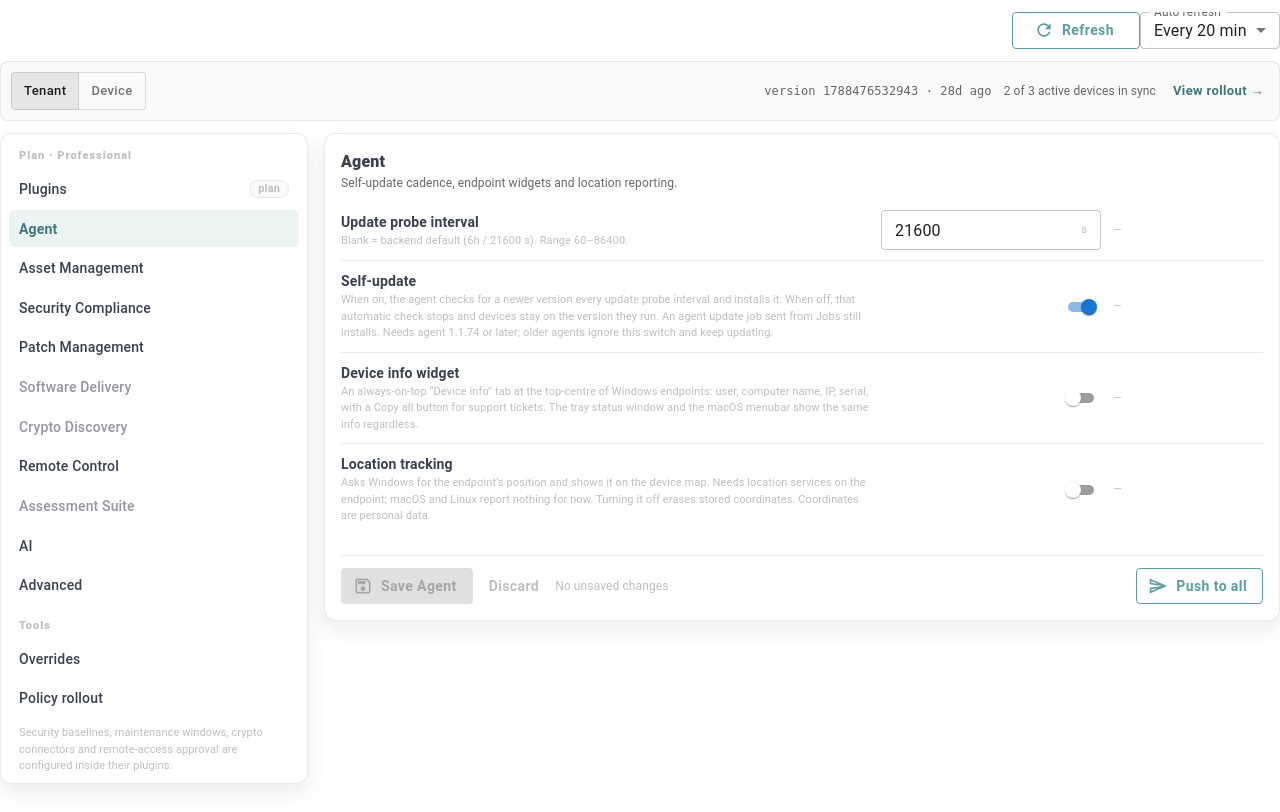
Test: navigation › shows the plan view read-only: no toggles, a status and a plan per plugin
What coordinates should you click on to do the following:
click the text "Plugins"
I would click on:
 (43, 189)
Its box is [19,181,67,197].
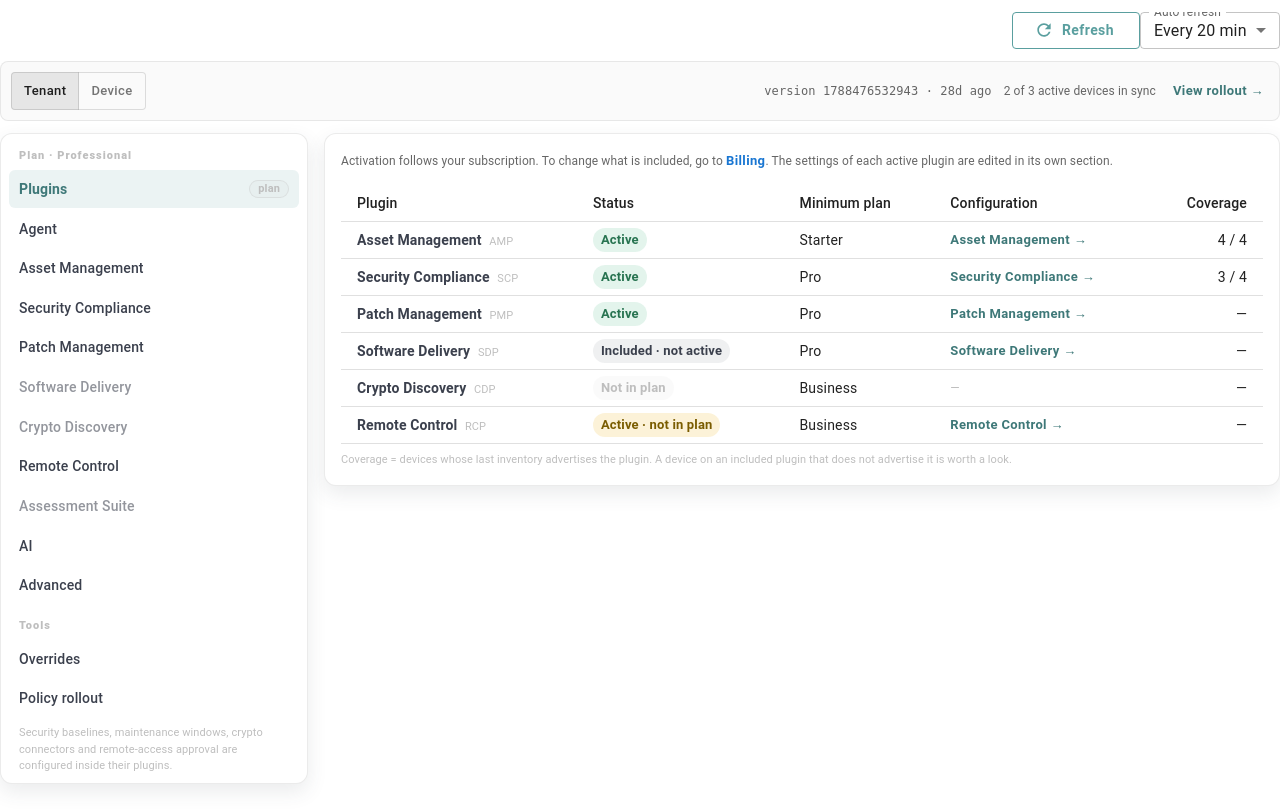
Check: the text "Not in plan" is shown, box [601,380,666,395]
Check: the text "Business" in the row of "CDP" is shown, box [800,380,857,396]
Check: the text "Active · not in plan" is shown, box [593,415,720,435]
